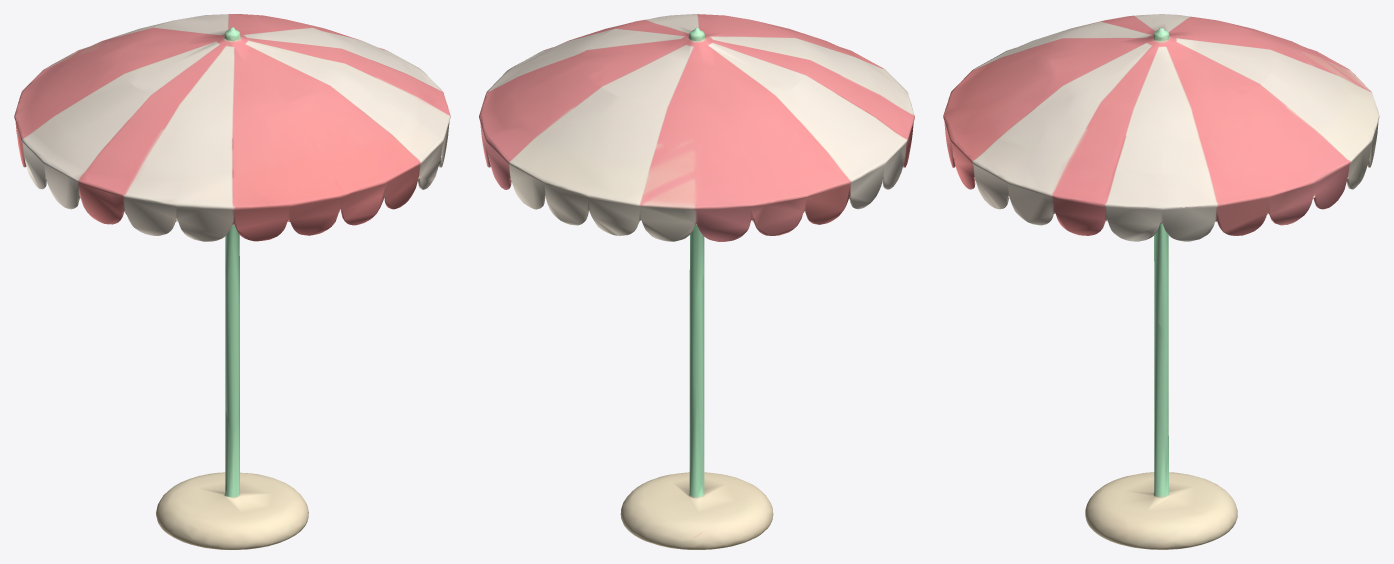
Rendered from PastelParasol.glb.
3 renders of one model, left to right at view 1: azimuth 30°, elevation 25°; view 2: azimuth 150°, elevation 25°; view 3: azimuth 270°, elevation 25°, orthographic.
Visible parts, largest first — view 1: PastelParasol; view 2: PastelParasol; view 3: PastelParasol.
Boxes of the visible parts, bbox=[...] form: PastelParasol: bbox=[14, 14, 450, 549]; PastelParasol: bbox=[479, 14, 914, 549]; PastelParasol: bbox=[943, 14, 1379, 549].
Bounding box in the file's own units: 1.84 × 2.3 × 1.84.
1 material, 1 textured.
